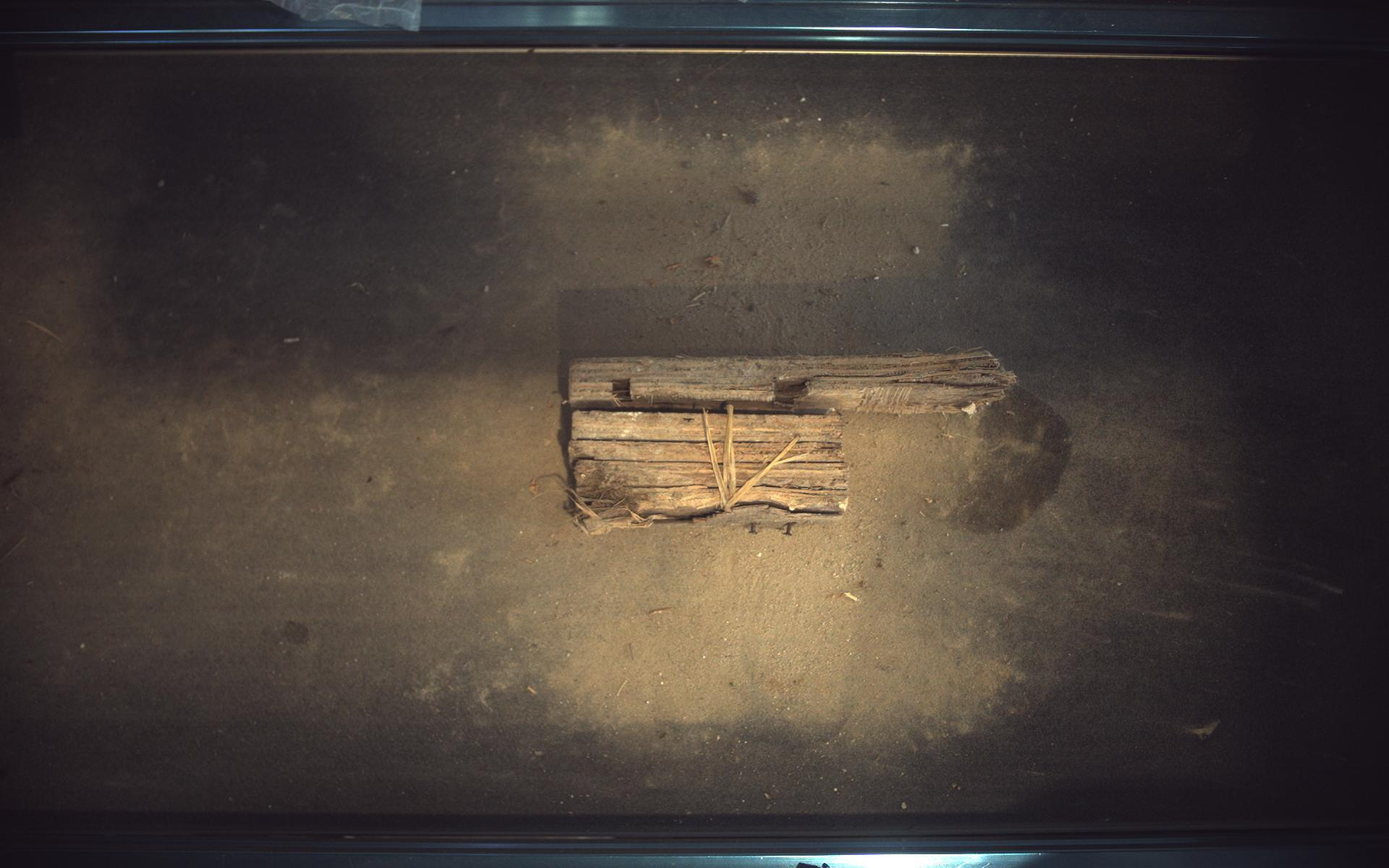wood: (569, 350, 1017, 534)
